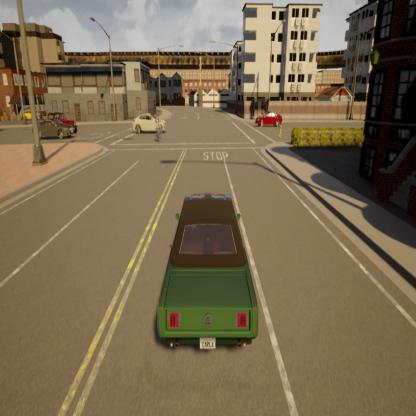Cars: (147, 172, 271, 370), (40, 104, 86, 132), (129, 102, 166, 136), (36, 117, 79, 143), (254, 107, 283, 125), (22, 108, 39, 122)
Pedestrian: (272, 123, 285, 142)
